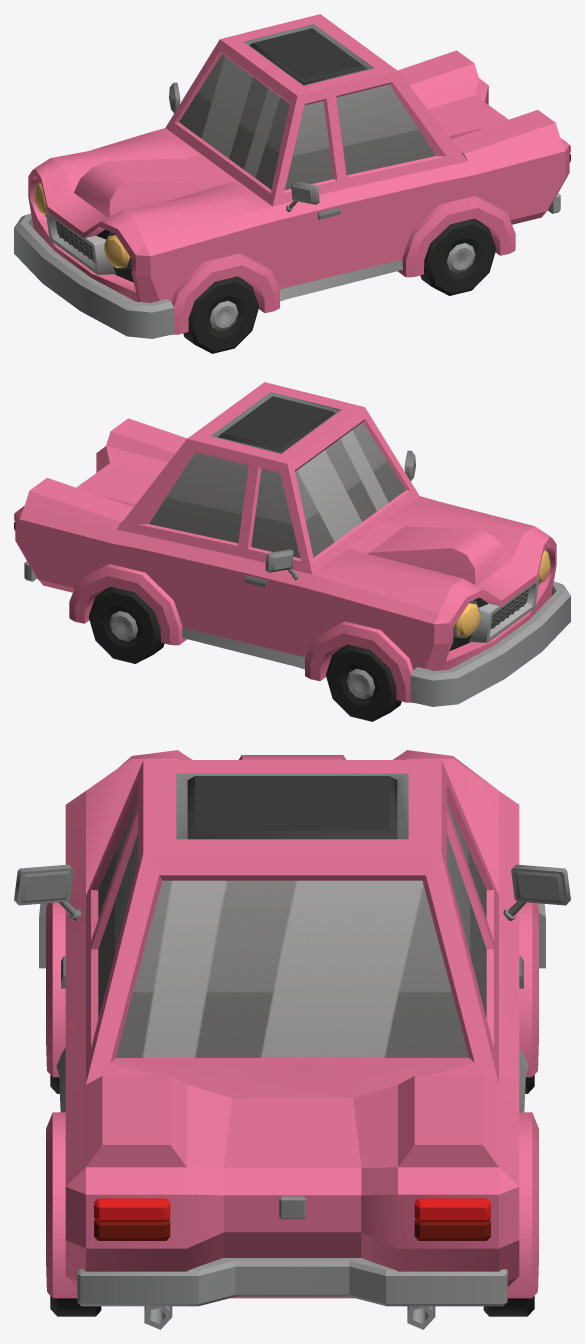
The model's file is Car_17_B.gltf.
3 views of the same model, one above another, from view 1: azimuth 30°, elevation 25°; view 2: azimuth 150°, elevation 25°; view 3: azimuth 270°, elevation 25° (orthographic). The views are drawn at different scales.
Parts seen in each view (by area): view 1: Car_17_B, RL, FL; view 2: Car_17_B, RR, FR; view 3: Car_17_B, RL, RR.
Boxes of the visible parts, x1=… form: Car_17_B: x1=14, y1=14, x2=570, y2=338; RL: x1=420, y1=218, x2=496, y2=295; FL: x1=183, y1=276, x2=258, y2=353; Car_17_B: x1=14, y1=382, x2=570, y2=706; RR: x1=88, y1=586, x2=164, y2=663; FR: x1=326, y1=644, x2=401, y2=721; Car_17_B: x1=14, y1=750, x2=570, y2=1329; RL: x1=50, y1=1296, x2=101, y2=1316; RR: x1=483, y1=1296, x2=534, y2=1316.
Bounding box in the file's own units: 3.39 × 1.53 × 1.85.
4 materials, 4 textured.
